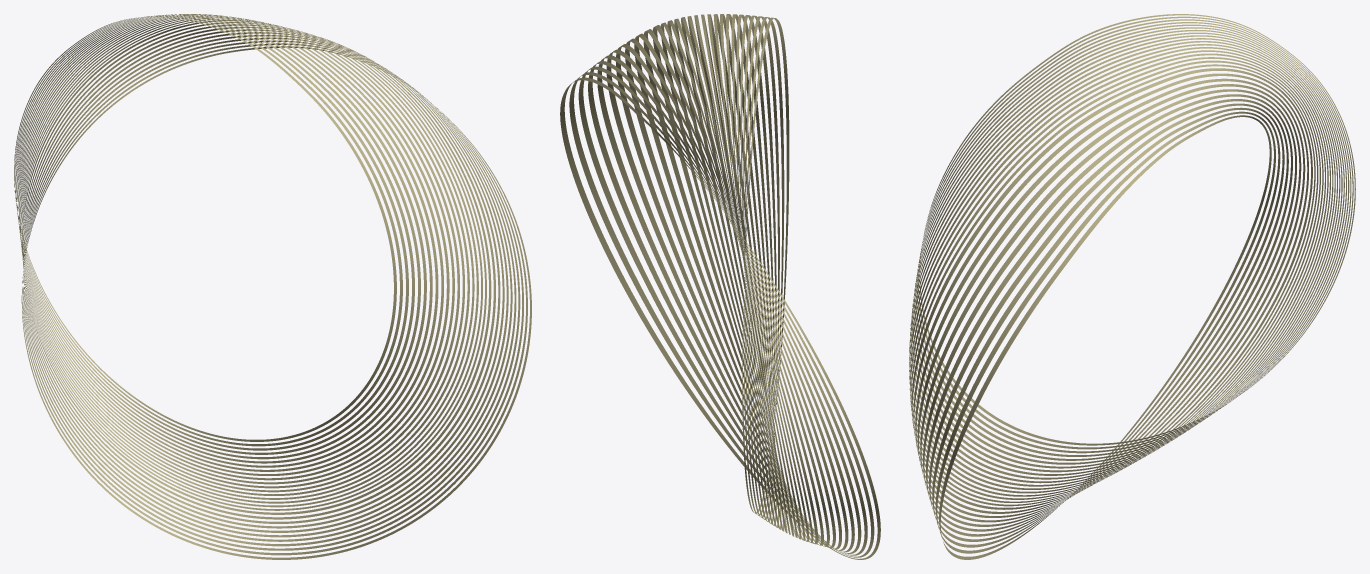
3 renders of one model, left to right at view 1: azimuth 30°, elevation 25°; view 2: azimuth 150°, elevation 25°; view 3: azimuth 270°, elevation 25°, orthographic. The views are drawn at different scales.
Parts seen in each view (by area): view 1: Circle; view 2: Circle; view 3: Circle.
Boxes of the visible parts, bbox=[...] form: Circle: bbox=[14, 14, 531, 559]; Circle: bbox=[560, 14, 880, 559]; Circle: bbox=[909, 14, 1355, 559].
Bounding box in the file's own units: 2.26 × 2.8 × 2.21.
